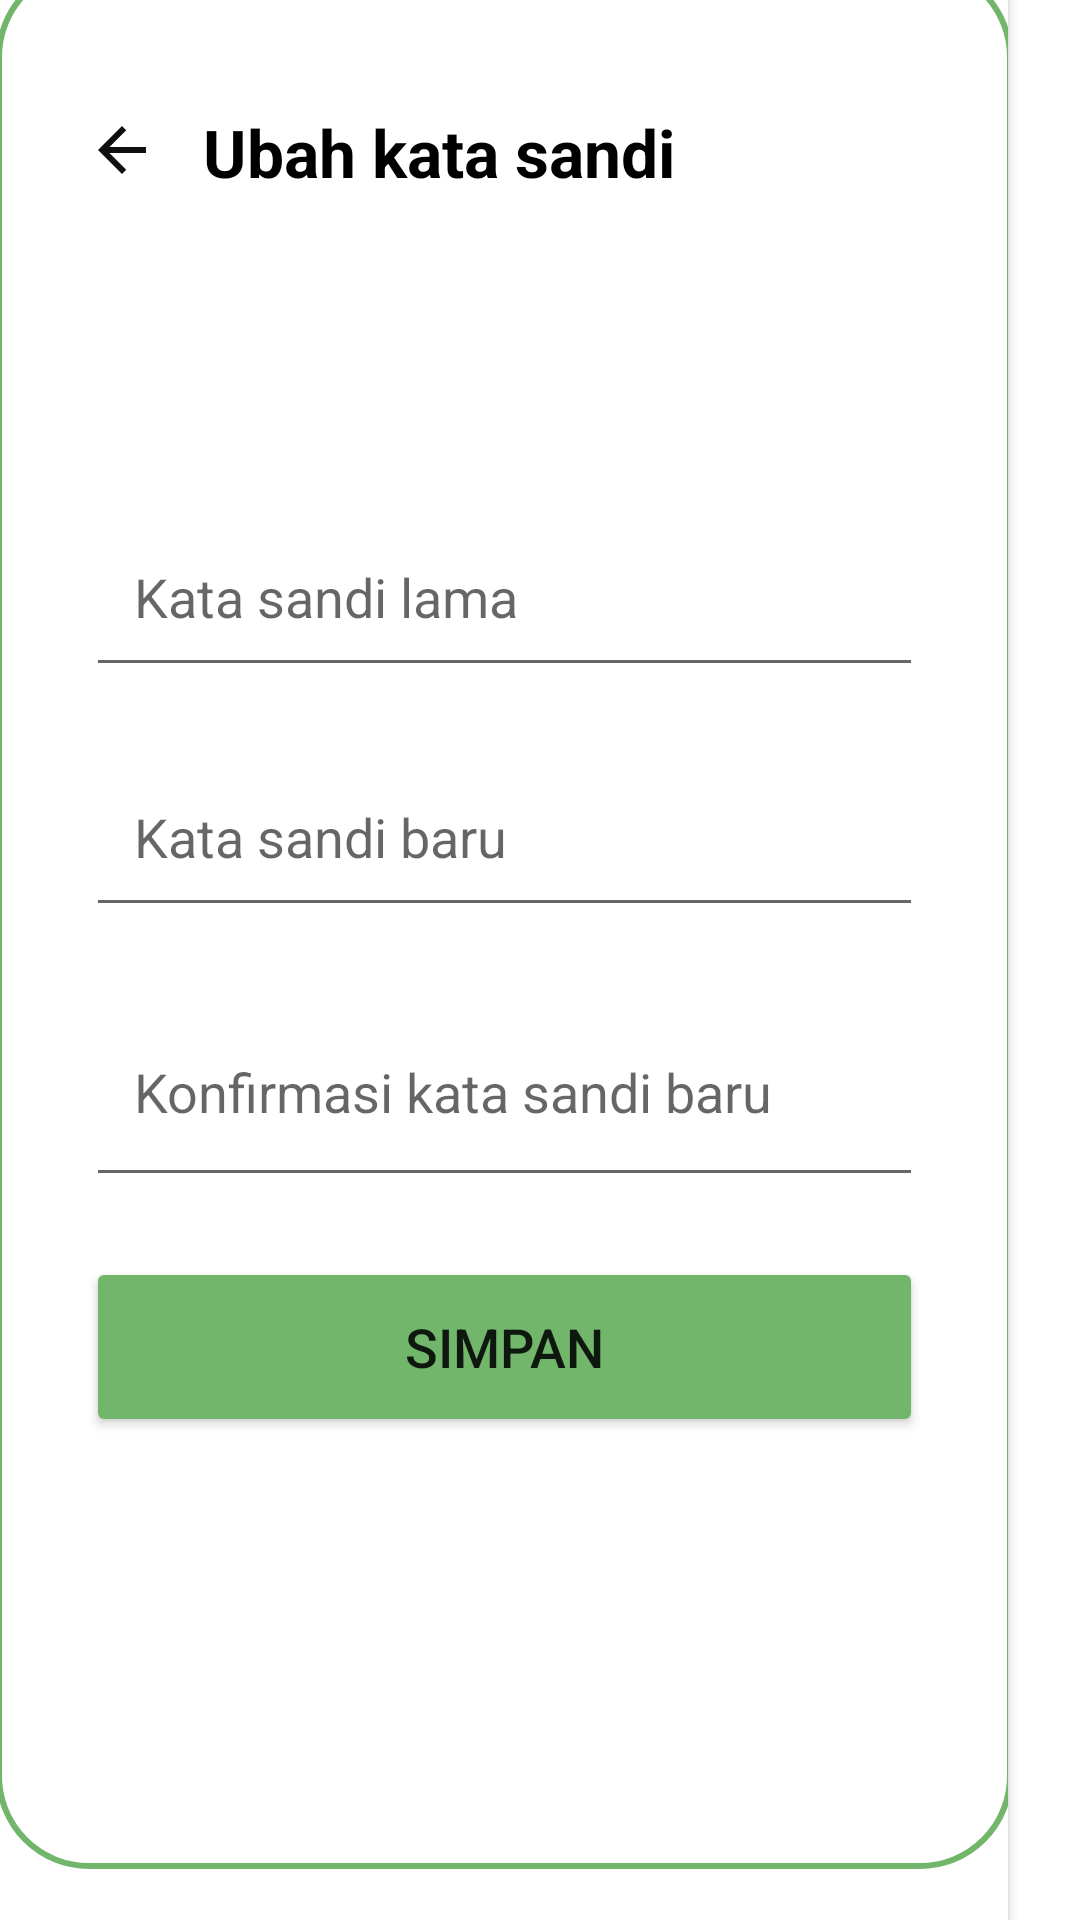

Icon click points for this 1080px x 1920px phone screenshot, format point (x, y):
kembali: point (122, 150)
